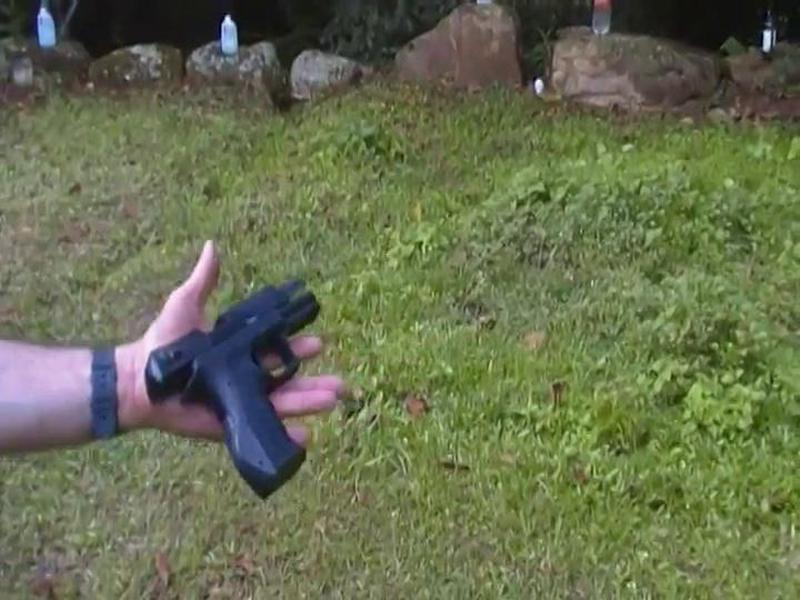Pistola: (129, 248, 338, 503)
